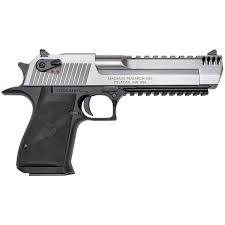gun: (1, 43, 225, 182)
